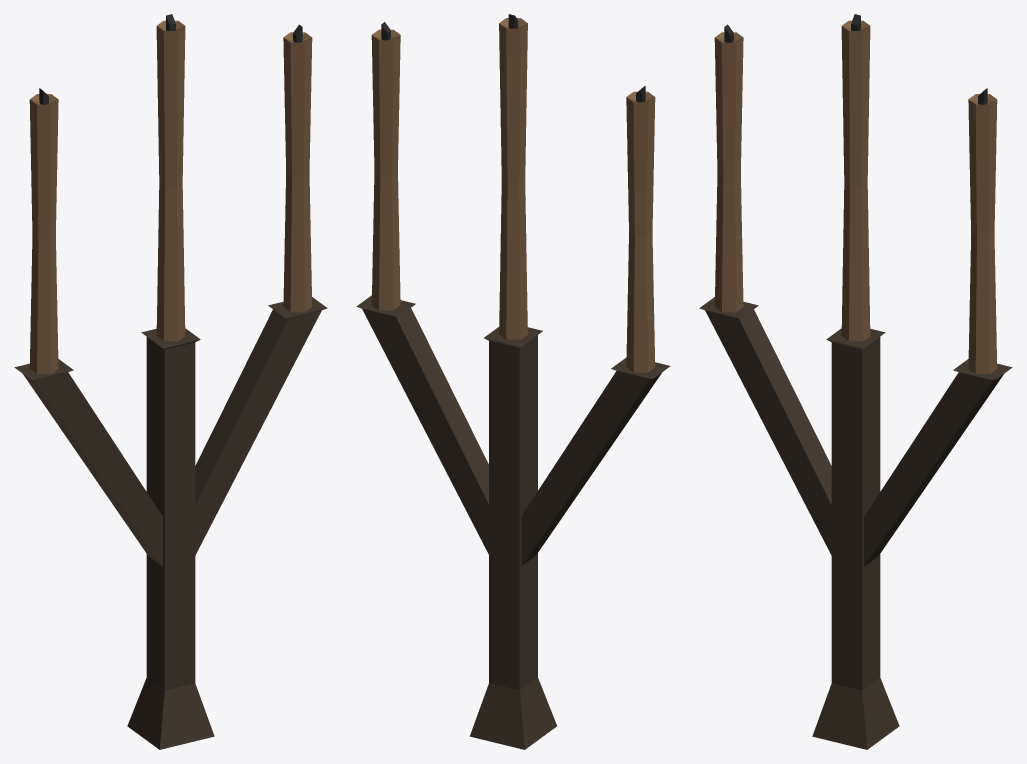
The model's file is Candle_5_Brown.fbx.
3 views of the same model, side by side, from view 1: azimuth 30°, elevation 25°; view 2: azimuth 150°, elevation 25°; view 3: azimuth 330°, elevation 25° (orthographic).
Visible parts, largest first — view 1: Candle_5_Brown_Part_1, Candle_5_Brown_Part_2; view 2: Candle_5_Brown_Part_1, Candle_5_Brown_Part_2; view 3: Candle_5_Brown_Part_1, Candle_5_Brown_Part_2.
Boxes of the visible parts, <box> form: Candle_5_Brown_Part_1: <box>14,297,327,749</box>; Candle_5_Brown_Part_2: <box>29,20,312,373</box>; Candle_5_Brown_Part_1: <box>356,295,670,749</box>; Candle_5_Brown_Part_2: <box>371,18,655,372</box>; Candle_5_Brown_Part_1: <box>699,297,1012,749</box>; Candle_5_Brown_Part_2: <box>714,20,997,373</box>.
Size of the model in its own units: 23.69 by 54.75 by 4.5.
